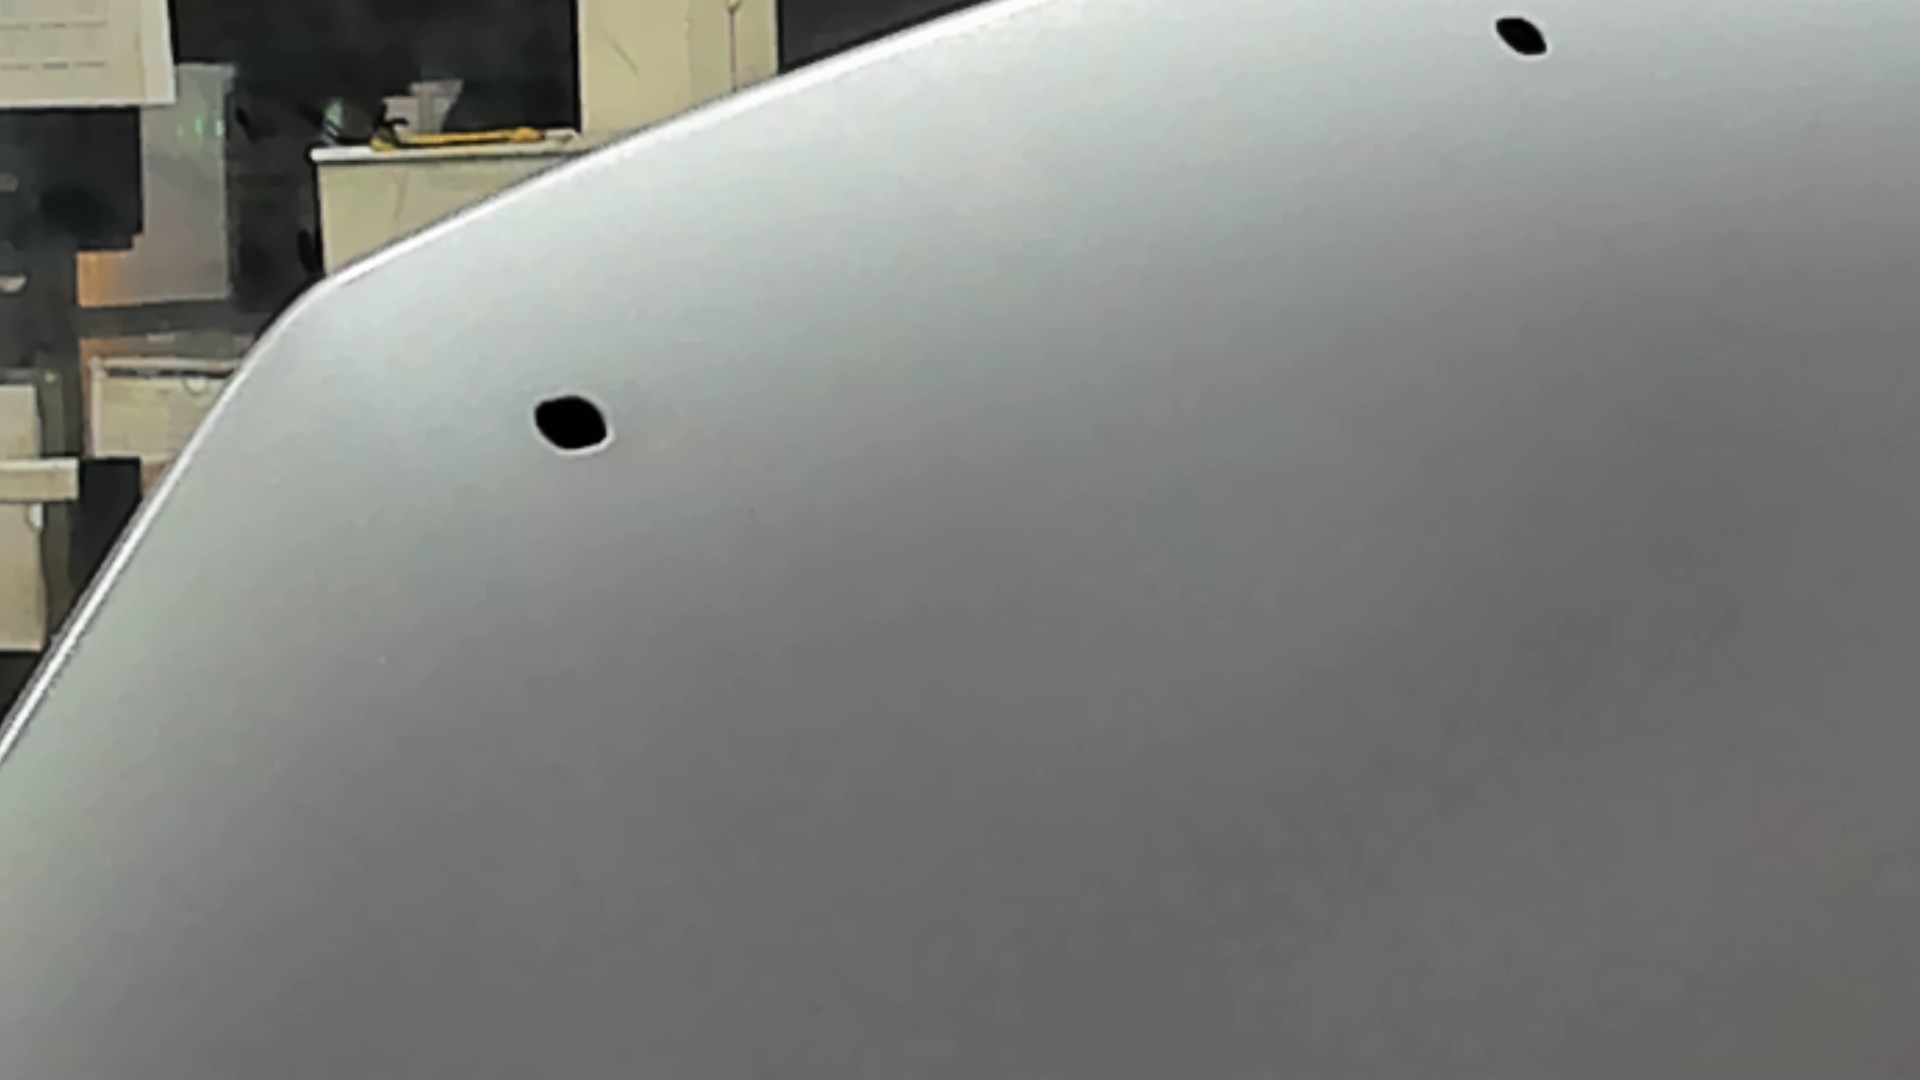Agujero: (527, 392, 613, 456), (1491, 15, 1551, 61)
